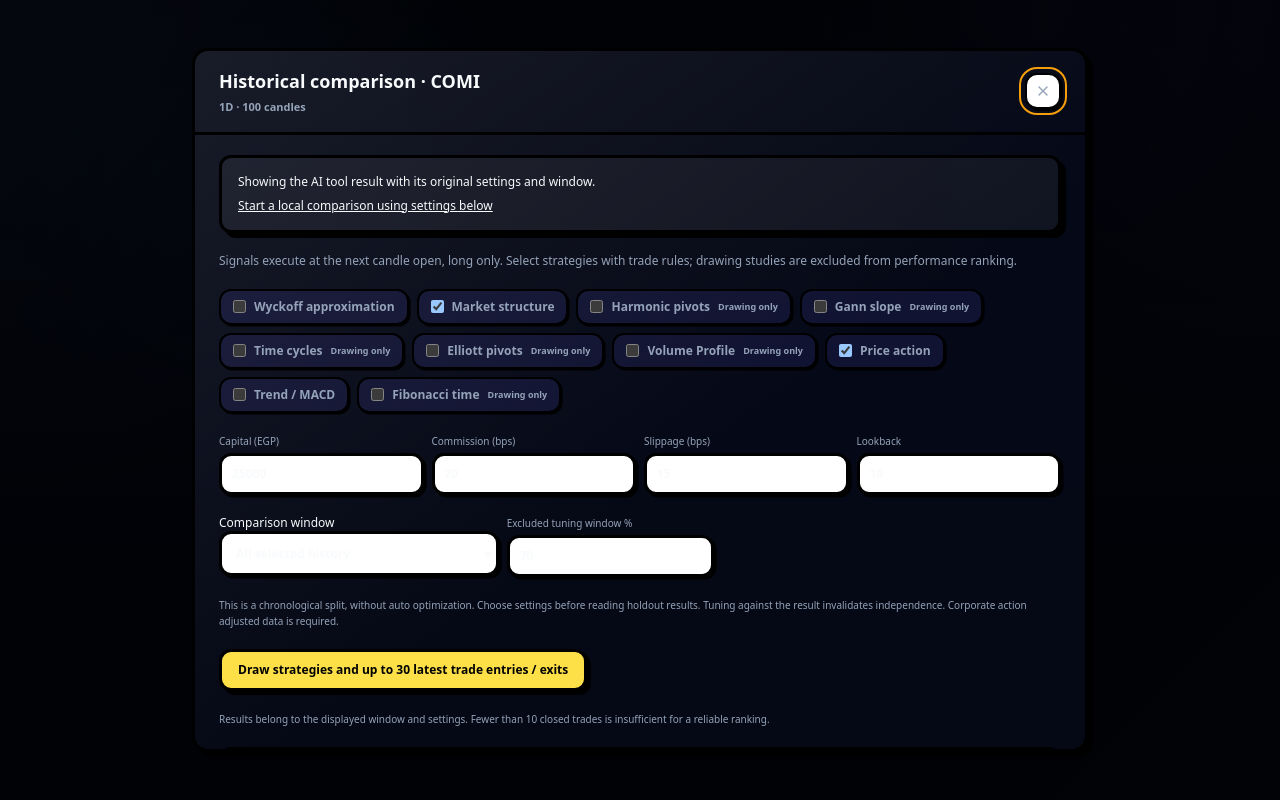
editing Slippage (bps) invalidates AI view and recalculates immediately
Expected: the number field labelled "Capital (EGP)" holds "25000", [219,452,424,494]
Replace the text in the number field labelled "Slippage (bps)" with "30" at x=746, y=474, box [644,452,848,494]
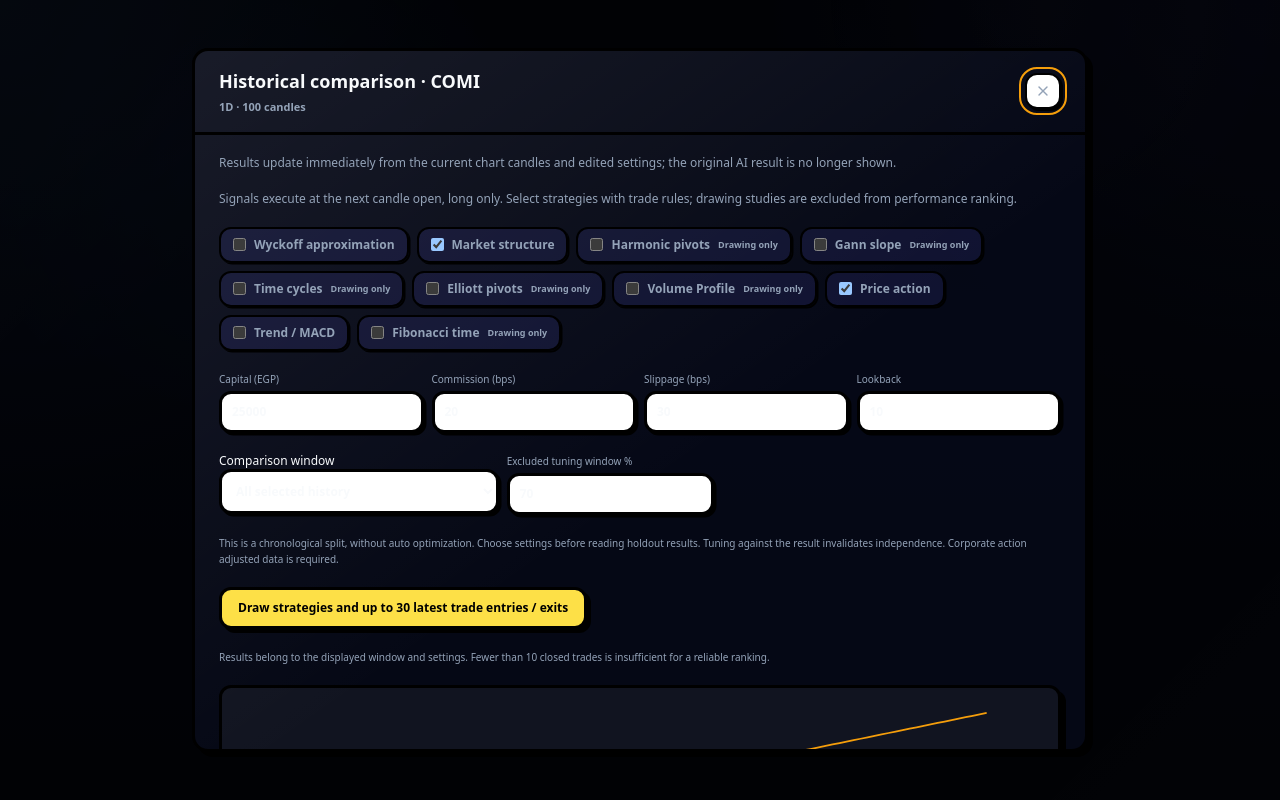
Expected: the message shows "Results update immediately", [219,154,896,170]
